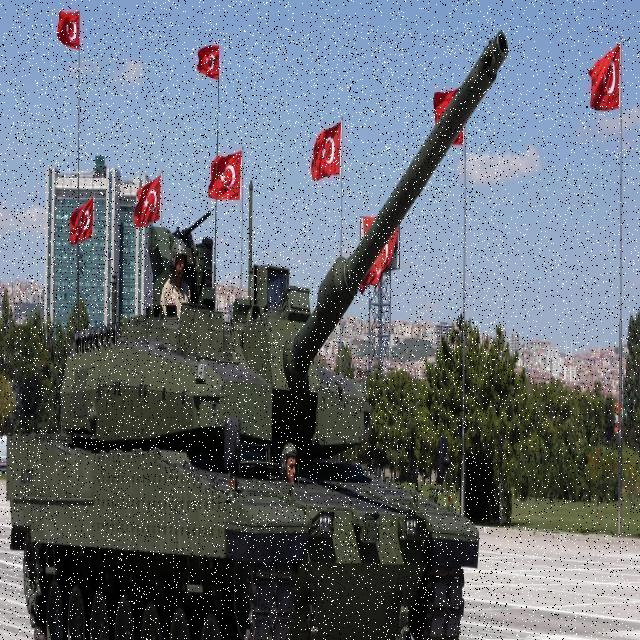MIL_MBT: (14, 25, 507, 640)
